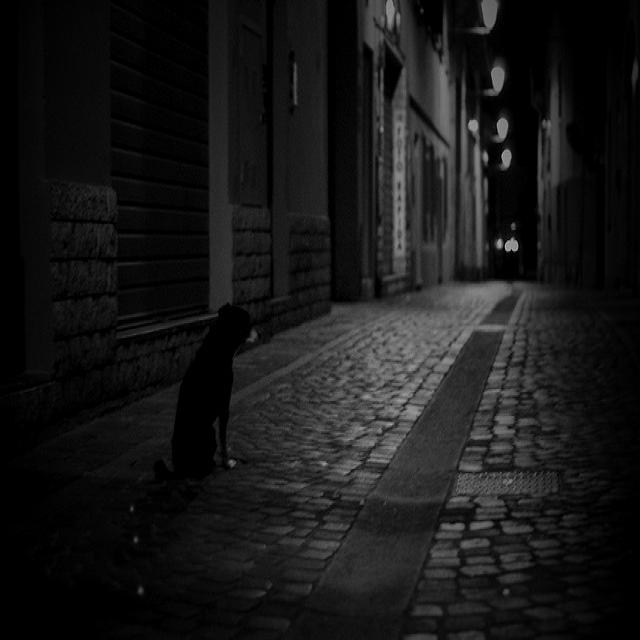Dog: (154, 302, 253, 482)
